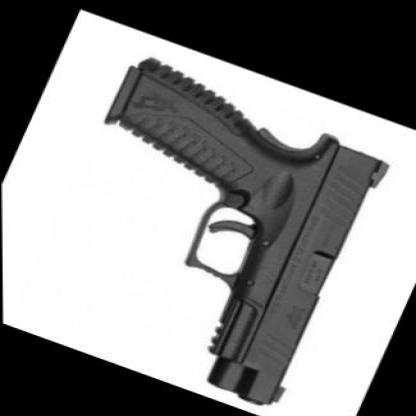pistol: (6, 33, 402, 415)
